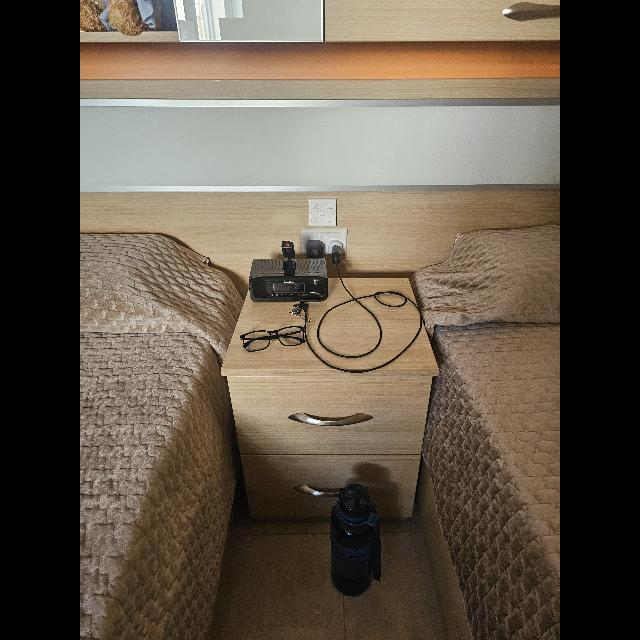glasses: (240, 326, 304, 352)
